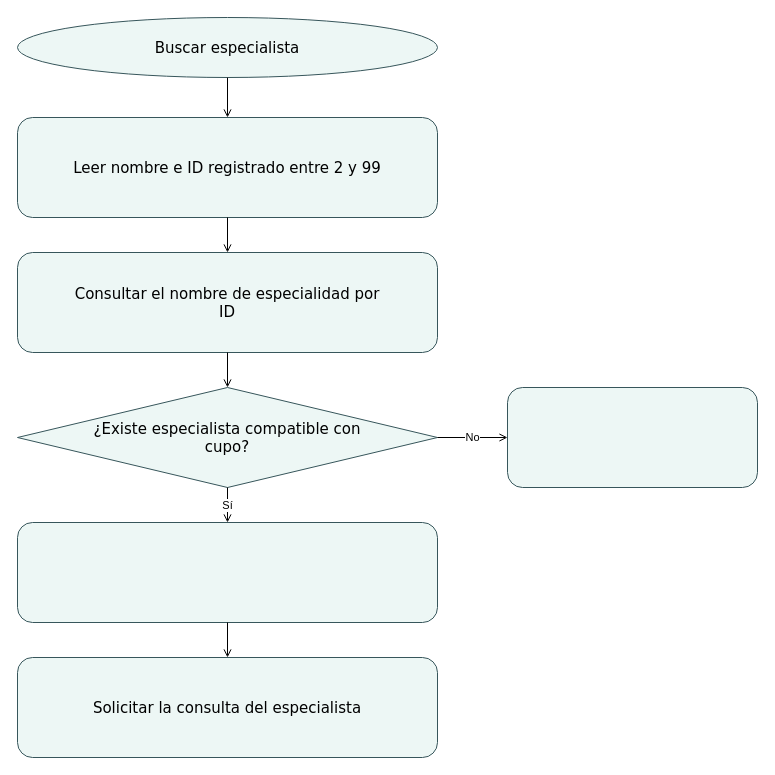
Some shapes in this 775 by 775 pixel diagram are drawn without their labels. The shapes that lost their labels are listed below. From the top down, each one's centre as x and y in pixels, then its label:
At (632,437): "Esperar disponibilidad".
At (227,572): "Sistema.asignarPaciente(PacienteEspecial idad)".
